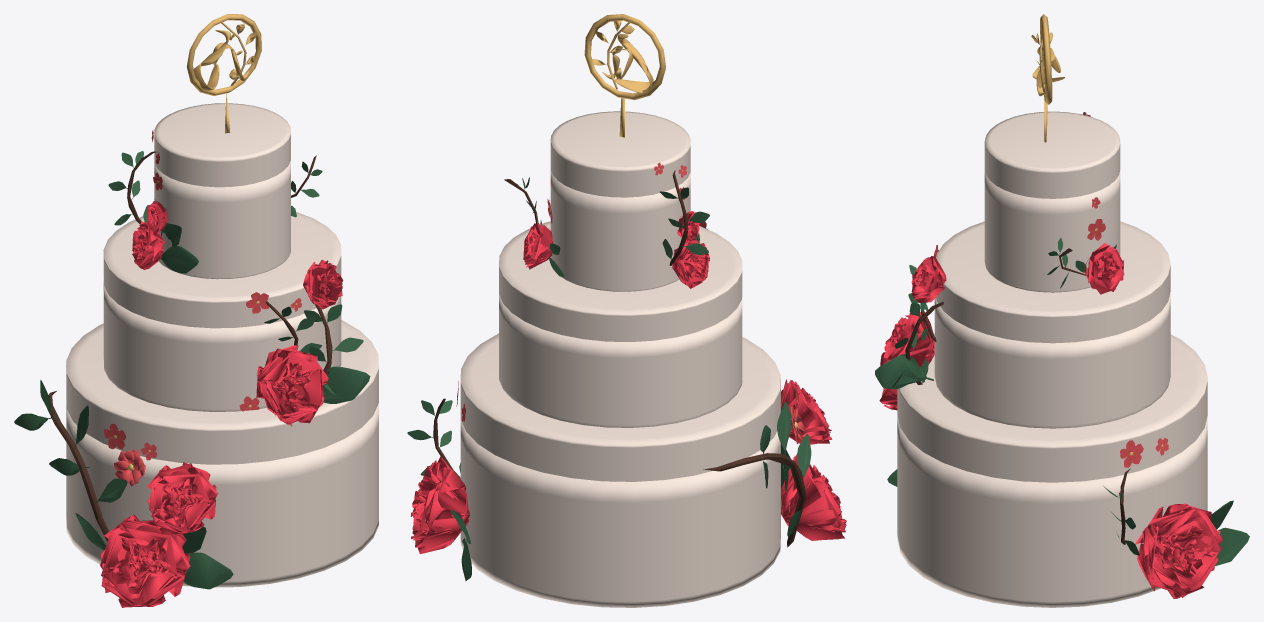
File: 3-tier-white-roses-ring.glb
The picture shows the model from 3 angles, left to right: view 1: azimuth 30°, elevation 25°; view 2: azimuth 150°, elevation 25°; view 3: azimuth 270°, elevation 25°; orthographic projection. The views are drawn at different scales.
Visible parts, largest first — view 1: Cylinder.022, Cylinder.014, Cylinder.021, grid.042, grid.044, grid.040, Plane.093, Cylinder.020, grid.043, Plane.087, Plane.091, Plane.095 (+6 smaller); view 2: Cylinder.022, Cylinder.014, Cylinder.021, grid.029, Cylinder.020, grid.042, Plane.093, grid.040, grid.045, Plane.092, grid.047, Plane.084; view 3: Cylinder.022, Cylinder.014, Cylinder.021, grid.029, grid.044, Cylinder.020, grid.047, Plane.087, grid.043, Plane.095, Plane.082, Plane.084.
Part boxes in pixels (x1=…): Cylinder.022: x1=66, y1=320, x2=378, y2=587; Cylinder.014: x1=103, y1=212, x2=341, y2=411; Cylinder.021: x1=154, y1=103, x2=290, y2=279; grid.042: x1=100, y1=514, x2=190, y2=607; grid.044: x1=256, y1=345, x2=328, y2=426; grid.040: x1=147, y1=462, x2=217, y2=537; Plane.093: x1=14, y1=380, x2=127, y2=550; Cylinder.020: x1=187, y1=14, x2=261, y2=133; grid.043: x1=303, y1=259, x2=343, y2=309; Plane.087: x1=322, y1=366, x2=370, y2=403; Plane.091: x1=183, y1=552, x2=233, y2=589; Plane.095: x1=304, y1=304, x2=363, y2=394; Cylinder.022: x1=460, y1=333, x2=780, y2=607; Cylinder.014: x1=499, y1=221, x2=742, y2=427; Cylinder.021: x1=550, y1=111, x2=690, y2=291; grid.029: x1=410, y1=456, x2=469, y2=554; Cylinder.020: x1=584, y1=14, x2=665, y2=137; grid.042: x1=781, y1=453, x2=846, y2=540; Plane.093: x1=703, y1=402, x2=811, y2=547; grid.040: x1=781, y1=379, x2=832, y2=444; grid.045: x1=672, y1=240, x2=709, y2=288; Plane.092: x1=660, y1=170, x2=709, y2=265; grid.047: x1=523, y1=222, x2=552, y2=269; Plane.084: x1=407, y1=398, x2=460, y2=478; Cylinder.022: x1=897, y1=334, x2=1207, y2=607; Cylinder.014: x1=934, y1=221, x2=1170, y2=428; Cylinder.021: x1=984, y1=111, x2=1120, y2=292; grid.029: x1=1135, y1=503, x2=1222, y2=598; grid.044: x1=880, y1=311, x2=934, y2=366; Cylinder.020: x1=1031, y1=14, x2=1064, y2=142; grid.047: x1=1083, y1=243, x2=1124, y2=294; Plane.087: x1=875, y1=354, x2=933, y2=389; grid.043: x1=911, y1=256, x2=946, y2=303; Plane.095: x1=892, y1=302, x2=943, y2=387; Plane.082: x1=1215, y1=527, x2=1249, y2=565; Plane.084: x1=1103, y1=468, x2=1139, y2=555.
Size of the model in its own units: 5.28 by 7.56 by 4.9.
